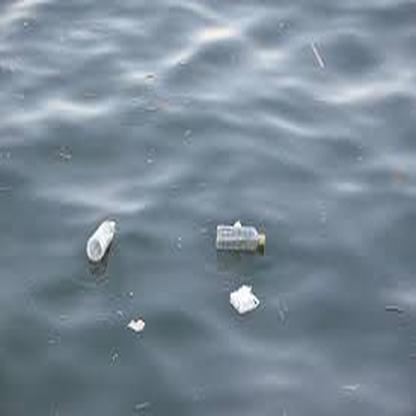foam: (230, 285, 260, 316), (128, 318, 147, 330)
plastic bottle: (85, 217, 117, 262), (215, 226, 266, 251)
